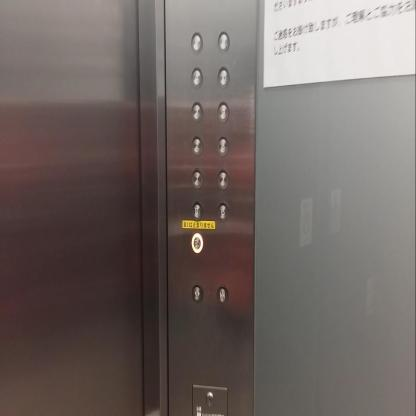1: (190, 167, 203, 190)
10: (218, 66, 228, 89)
2: (191, 133, 203, 157)
3: (191, 102, 203, 122)
4: (190, 66, 204, 89)
5: (190, 30, 203, 53)
6: (217, 199, 229, 222)
7: (217, 168, 229, 190)
8: (217, 135, 229, 157)
9: (216, 99, 230, 124)
B1: (191, 200, 203, 220)
B2: (190, 232, 203, 253)
blur: (217, 30, 230, 54)
close: (217, 284, 228, 304)
open: (191, 283, 203, 304)
